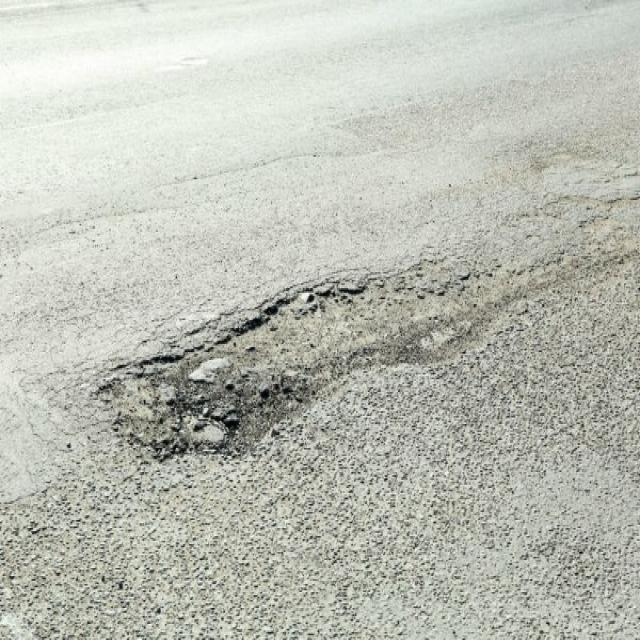Pothole: (79, 262, 493, 473)
